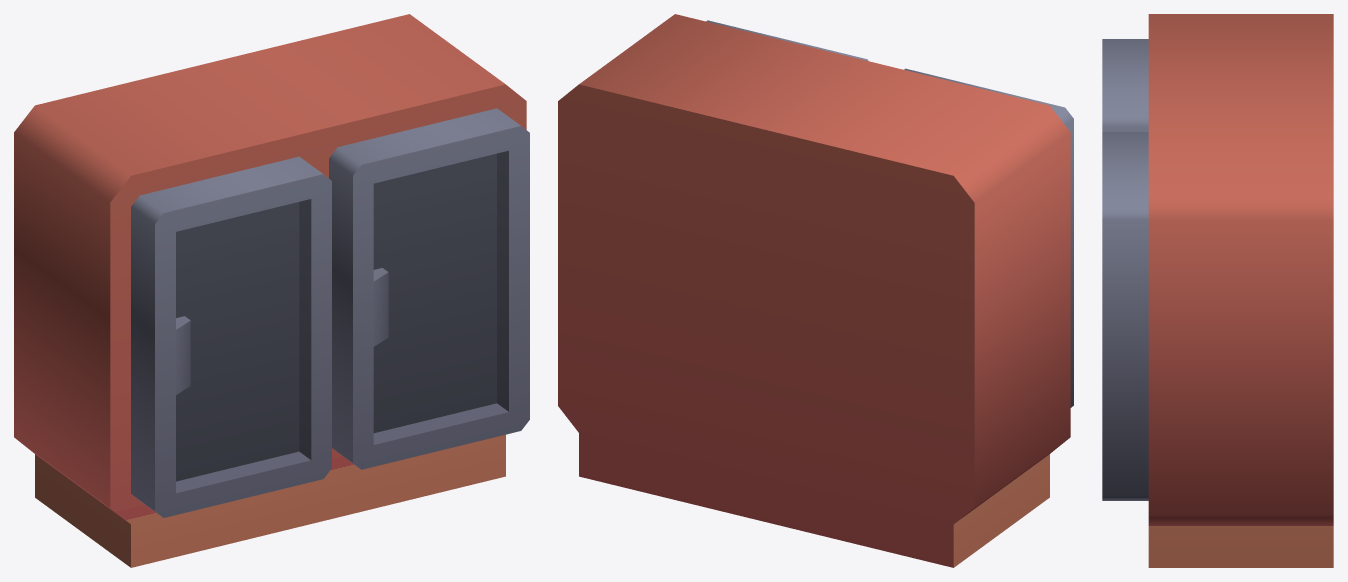
The model's file is freezers-standing.obj.
The picture shows the model from 3 angles, left to right: view 1: azimuth 30°, elevation 25°; view 2: azimuth 150°, elevation 25°; view 3: azimuth 270°, elevation 25°; orthographic projection. The views are drawn at different scales.
Parts seen in each view (by area): view 1: freezers-standing; view 2: freezers-standing; view 3: freezers-standing.
Part boxes in pixels (bbox=[...]): freezers-standing: bbox=[14, 14, 529, 567]; freezers-standing: bbox=[558, 14, 1073, 567]; freezers-standing: bbox=[1102, 14, 1333, 567].
Bounding box in the file's own units: 1 × 0.9 × 0.5.
